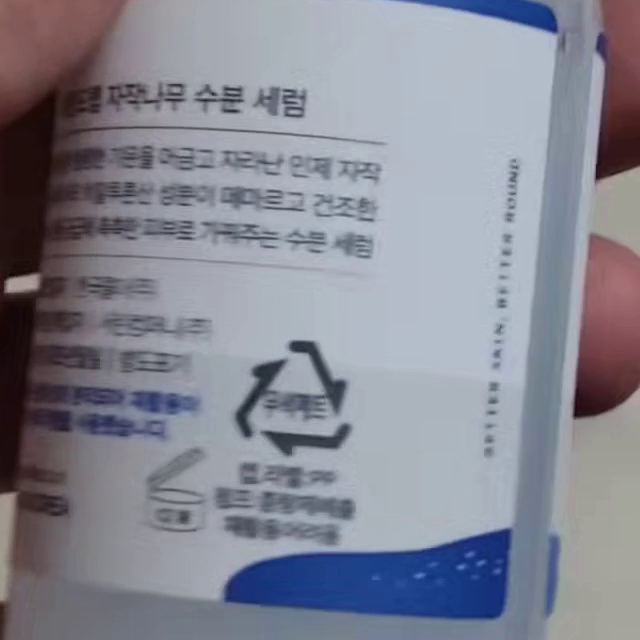ColorlessPet: (235, 342, 353, 458)
